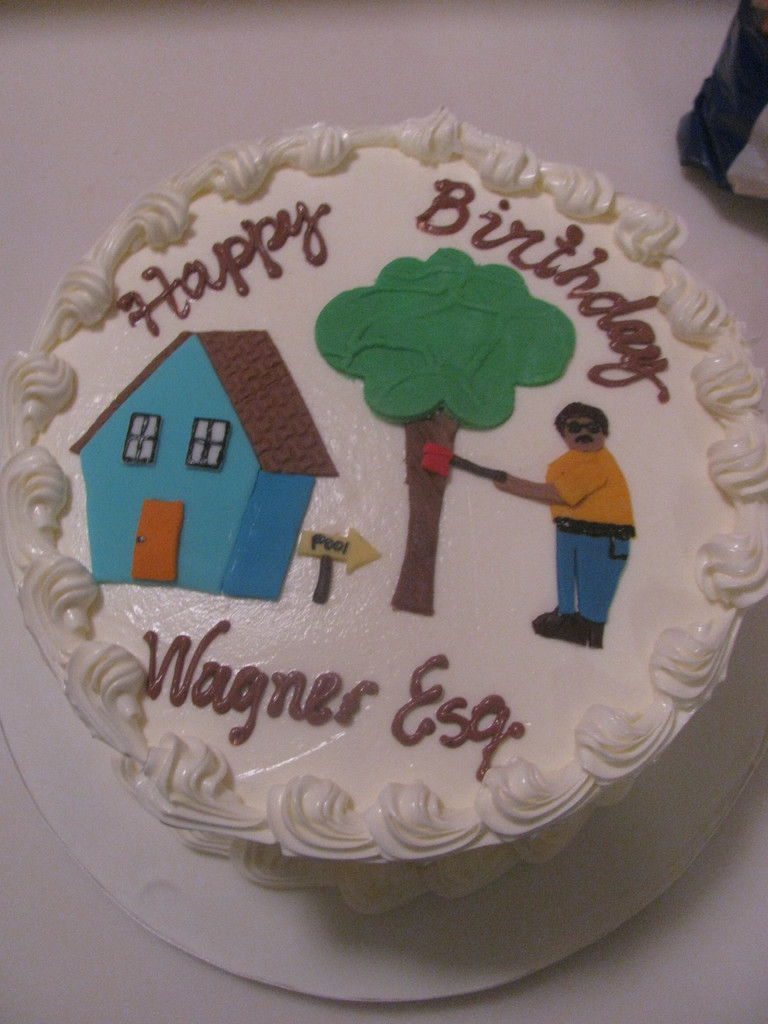cake: (0, 100, 767, 928)
